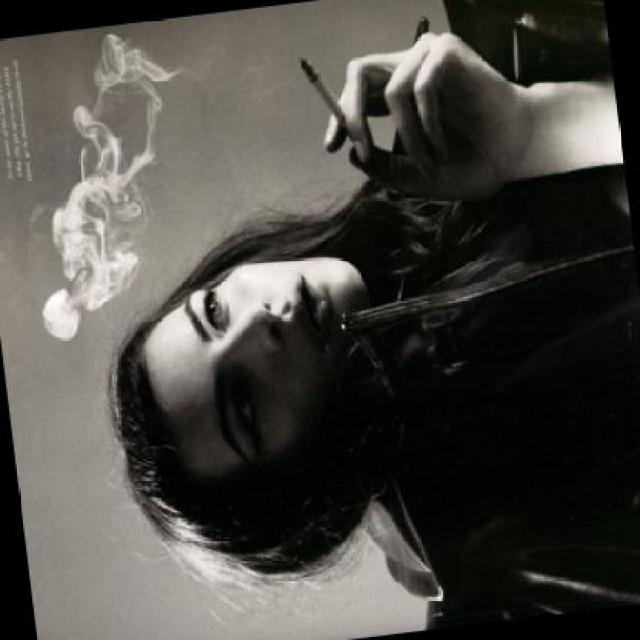cigarette: (294, 43, 352, 146)
